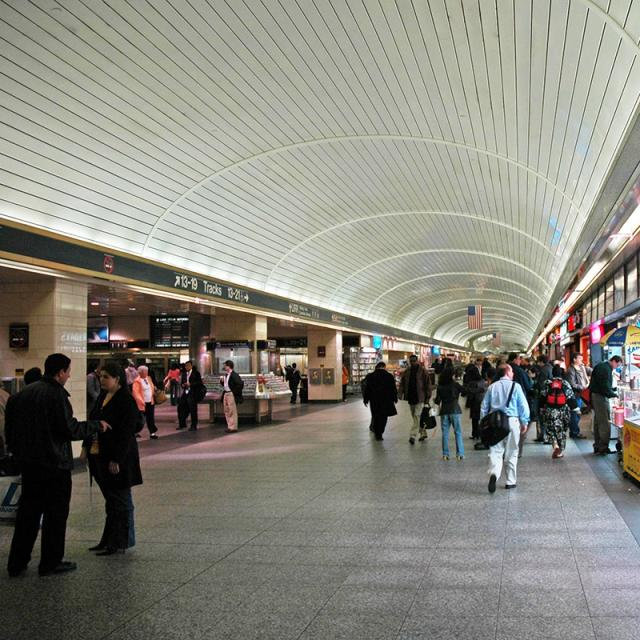body: (2, 351, 112, 578), (0, 361, 199, 440), (78, 361, 148, 558), (430, 347, 594, 422), (477, 362, 531, 496), (491, 352, 533, 460), (538, 362, 582, 460), (586, 354, 624, 456), (397, 354, 438, 446), (431, 368, 468, 461), (278, 360, 350, 403), (362, 360, 399, 442), (131, 364, 168, 441), (564, 350, 590, 440), (218, 358, 245, 434), (174, 361, 202, 433), (532, 354, 554, 443), (464, 366, 486, 440), (163, 361, 181, 406), (287, 362, 304, 404)
